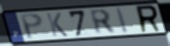7: (68, 9, 88, 38)
I: (115, 7, 131, 35)
K: (45, 12, 70, 38)
P: (18, 12, 45, 41)
R: (135, 4, 164, 35), (88, 9, 119, 37)
